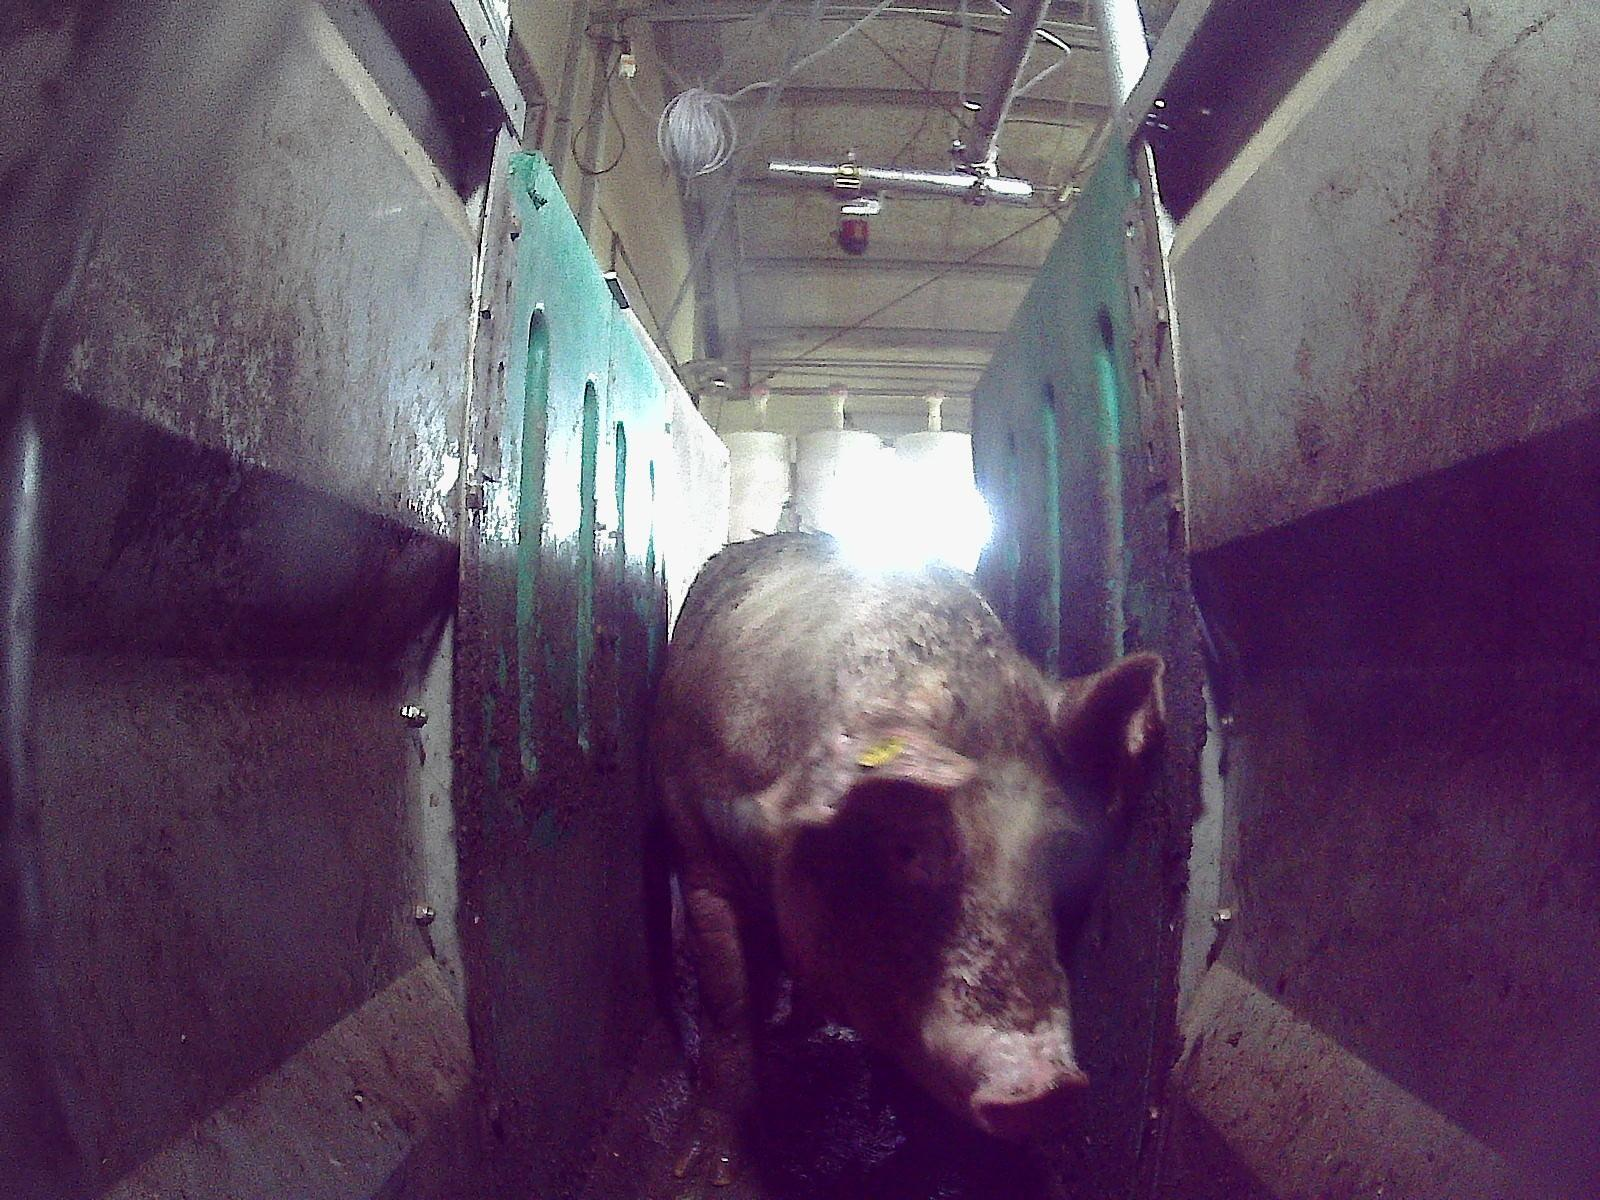Face: (767, 714, 1090, 1137)
